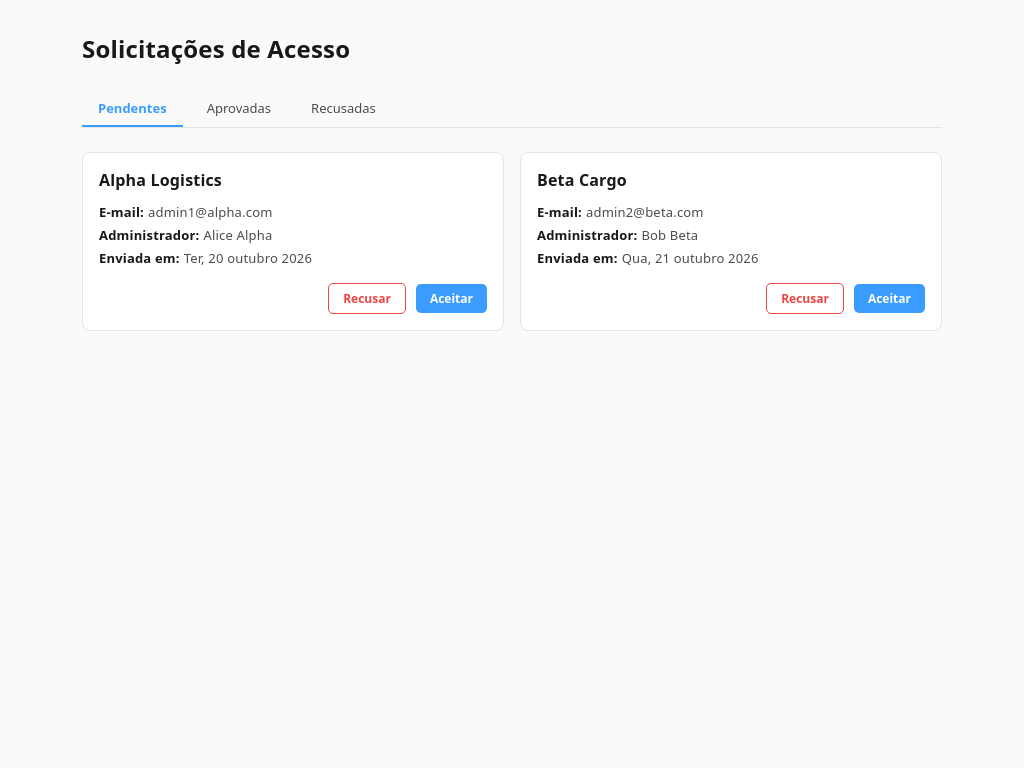
Scenario: SolicitacoesPage › keeps the initial password modal open when a second confirm click answers 409 (double click)
Expected: the heading "Alpha Logistics" is shown, [99,169,222,192]
What coordinates should you click on to do the following:
click the 1st button "Aceitar"
I would click on:
 (451, 298)
Its box is [416,284,487,313].
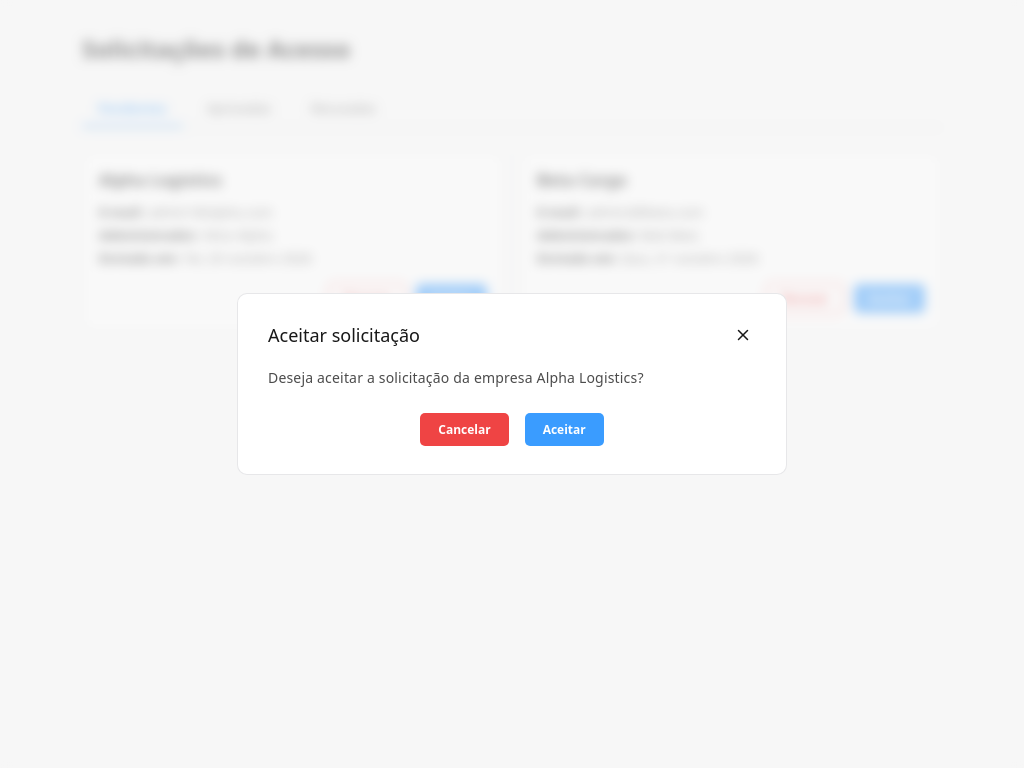
What coordinates should you click on to do the following:
click the button "Aceitar"
I would click on:
 (564, 429)
Its box is [525,413,604,446].
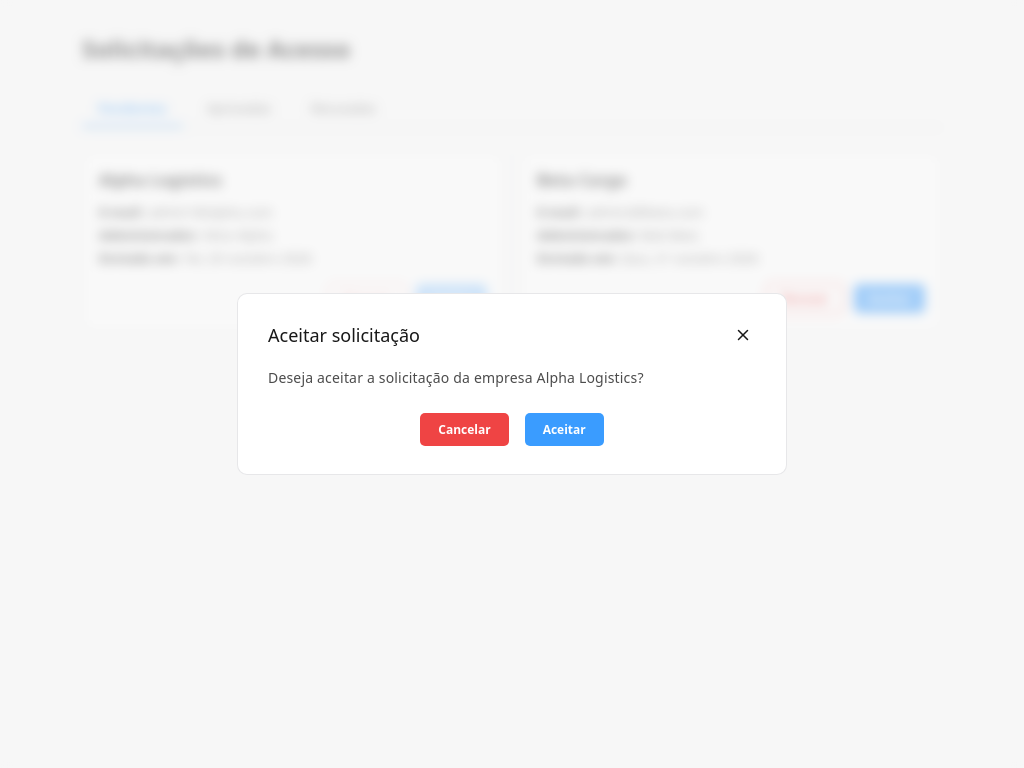
What coordinates should you click on to do the following:
click the button "Aceitar"
I would click on:
 (564, 429)
Its box is [525,413,604,446].
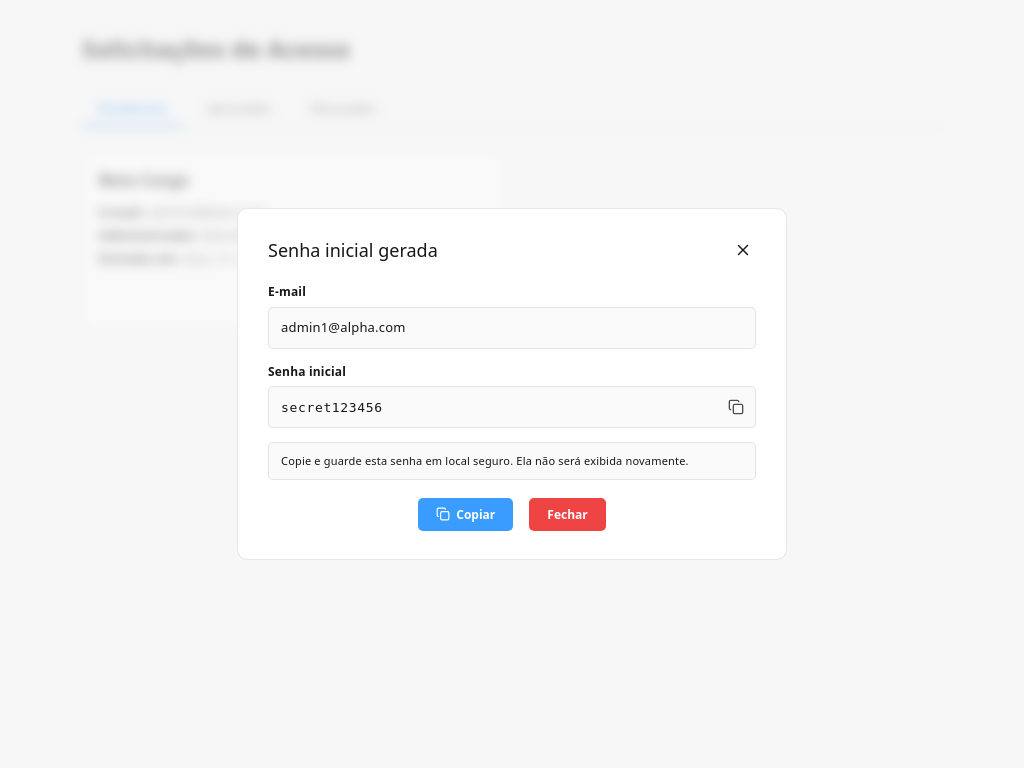
Expected: the dialog "Senha inicial" is shown, [237,208,787,560]
